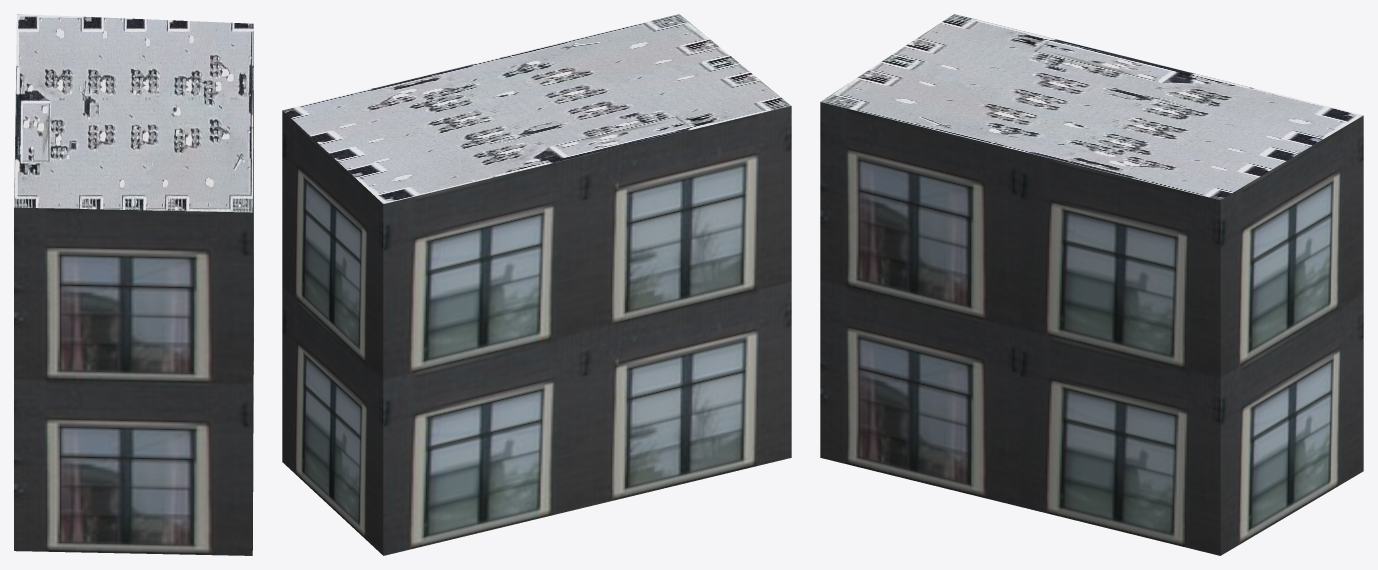
Rendered from ResTex__3087.fbx.
3 views of the same model, side by side, from view 1: azimuth 30°, elevation 25°; view 2: azimuth 150°, elevation 25°; view 3: azimuth 270°, elevation 25° (orthographic). The views are drawn at different scales.
Parts seen in each view (by area): view 1: CityEngineMaterial_22_m, CityEngineMaterial_m; view 2: CityEngineMaterial_22_m, CityEngineMaterial_m; view 3: CityEngineMaterial_22_m, CityEngineMaterial_m.
Boxes of the visible parts, box(x1,y1,x2,y2) form: CityEngineMaterial_22_m: box(14, 31, 253, 555); CityEngineMaterial_m: box(14, 14, 253, 212); CityEngineMaterial_22_m: box(282, 106, 791, 555); CityEngineMaterial_m: box(283, 14, 790, 203); CityEngineMaterial_22_m: box(820, 102, 1363, 555); CityEngineMaterial_m: box(820, 14, 1363, 199).
Bounding box in the file's own units: 6.73 × 6 × 8.31.
Materials: 2 (2 with a texture image).
